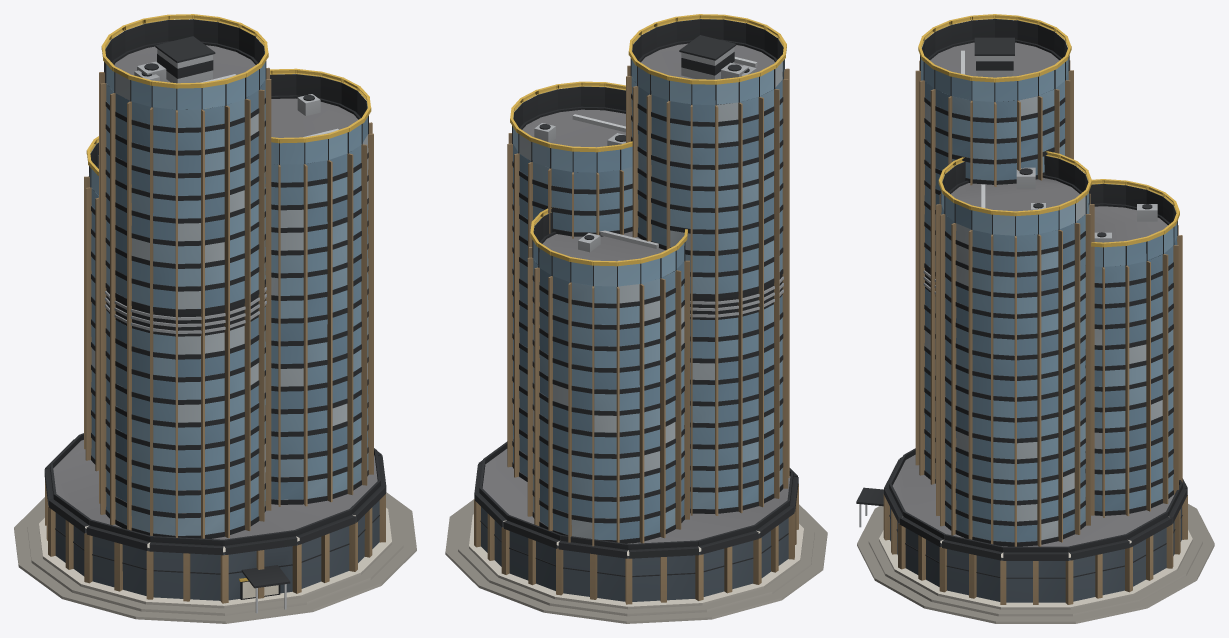
The picture shows the model from 3 angles, left to right: view 1: azimuth 30°, elevation 25°; view 2: azimuth 150°, elevation 25°; view 3: azimuth 270°, elevation 25°; orthographic projection. The views are drawn at different scales.
Visible parts, largest first — view 1: t5; view 2: t5; view 3: t5.
Boxes of the visible parts, x1=… form: t5: x1=14, y1=14, x2=416, y2=623; t5: x1=445, y1=14, x2=827, y2=623; t5: x1=856, y1=14, x2=1214, y2=623.
Size of the model in its own units: 63.04 by 89.63 by 61.14.
